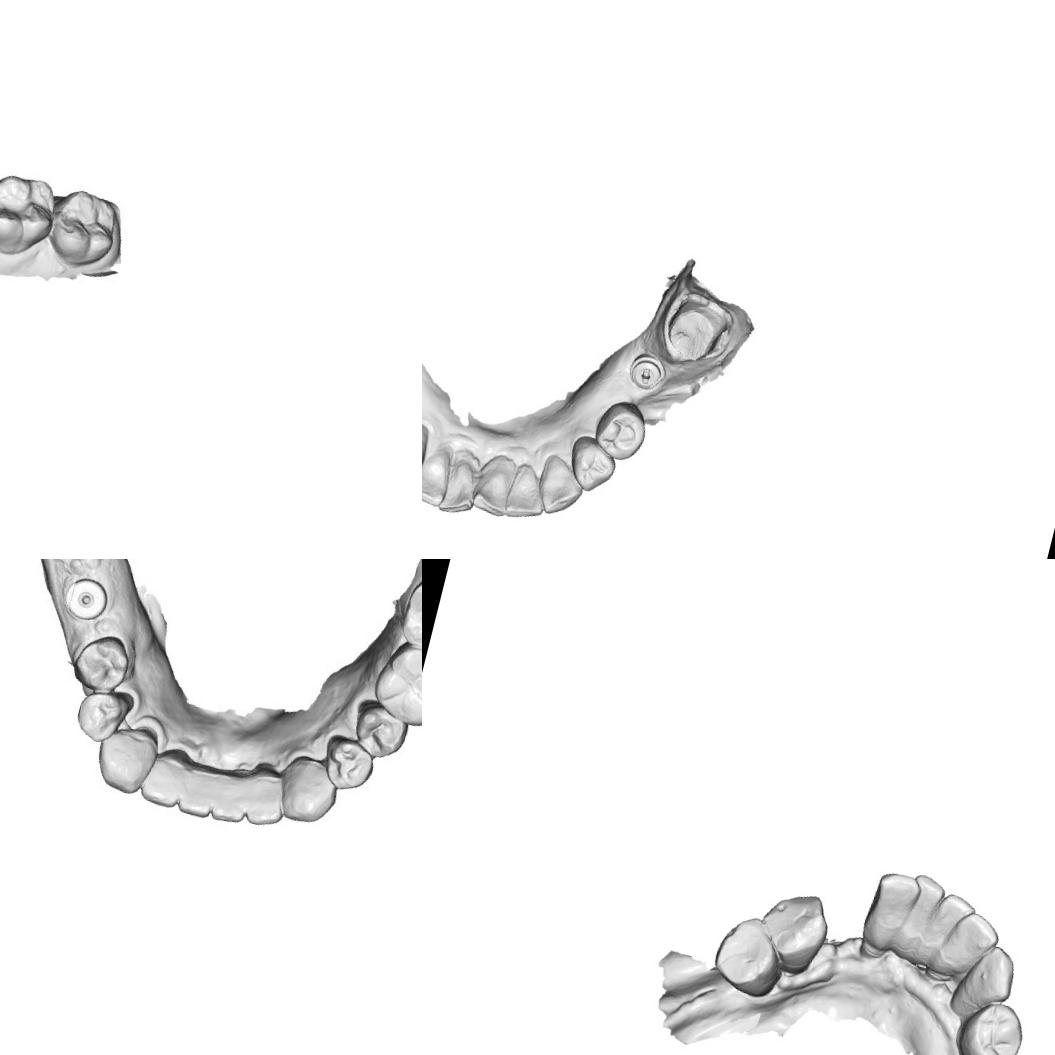canine: (269, 746, 344, 832), (950, 936, 1022, 1015), (90, 722, 158, 797), (532, 452, 589, 520)
crown: (657, 286, 738, 369)
implant: (60, 572, 112, 626)
implant_minus: (624, 349, 670, 394)
incisor: (936, 904, 1005, 975), (864, 866, 925, 936), (894, 869, 949, 945), (920, 887, 978, 955), (139, 742, 195, 806), (468, 452, 518, 518), (501, 462, 552, 524), (436, 455, 483, 518), (242, 770, 289, 830), (211, 768, 255, 826), (177, 762, 219, 818), (422, 440, 455, 508)
molar: (40, 182, 126, 274), (0, 166, 59, 261), (367, 634, 422, 734), (394, 566, 422, 663)
premolar: (704, 907, 793, 1004), (752, 880, 837, 974), (67, 625, 136, 703), (951, 992, 1032, 1055), (588, 394, 652, 465), (344, 699, 413, 764), (318, 734, 380, 800), (71, 682, 132, 744), (562, 432, 621, 496)
